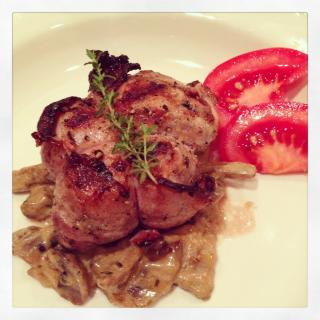tomato: (202, 46, 320, 132), (222, 103, 308, 175)
